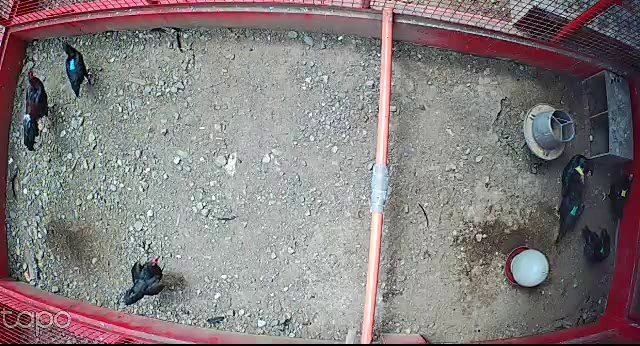Chicken: (123, 252, 168, 306), (552, 182, 589, 247), (559, 152, 597, 204), (601, 172, 637, 224), (61, 41, 92, 98), (580, 225, 615, 265)
Drinker: (506, 245, 549, 289)
Feeder: (523, 101, 577, 161)
Rooster: (24, 68, 55, 152)
Saddle_Color_Blue: (69, 59, 76, 70)
